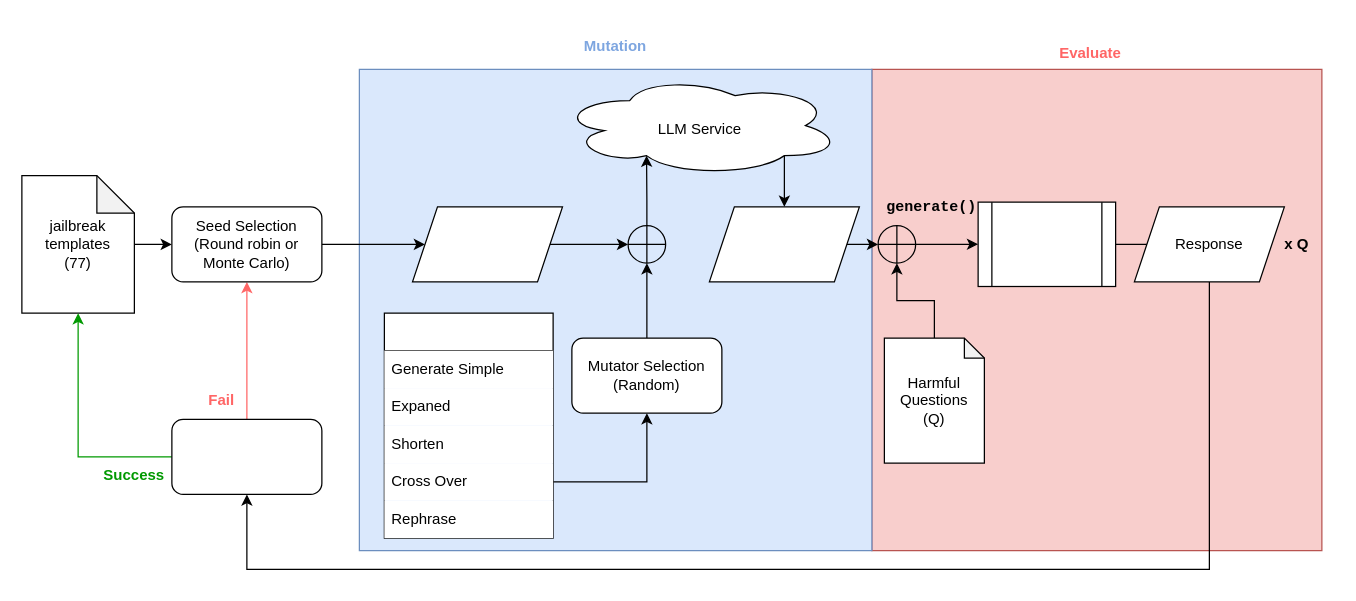
This 1356x601 diagram has some shape labels left out. The shapes that lost their labels are listed below. From the top down, each one's box as (x1, y1, x2, y2) in pixels, then its label:
(411, 206, 562, 282): Template
(708, 206, 859, 282): Mutated Template
(977, 201, 1116, 286): Target LLM
(383, 312, 553, 538): Mutation operators (M)
(171, 418, 322, 494): Classifier (RoBERTa)
